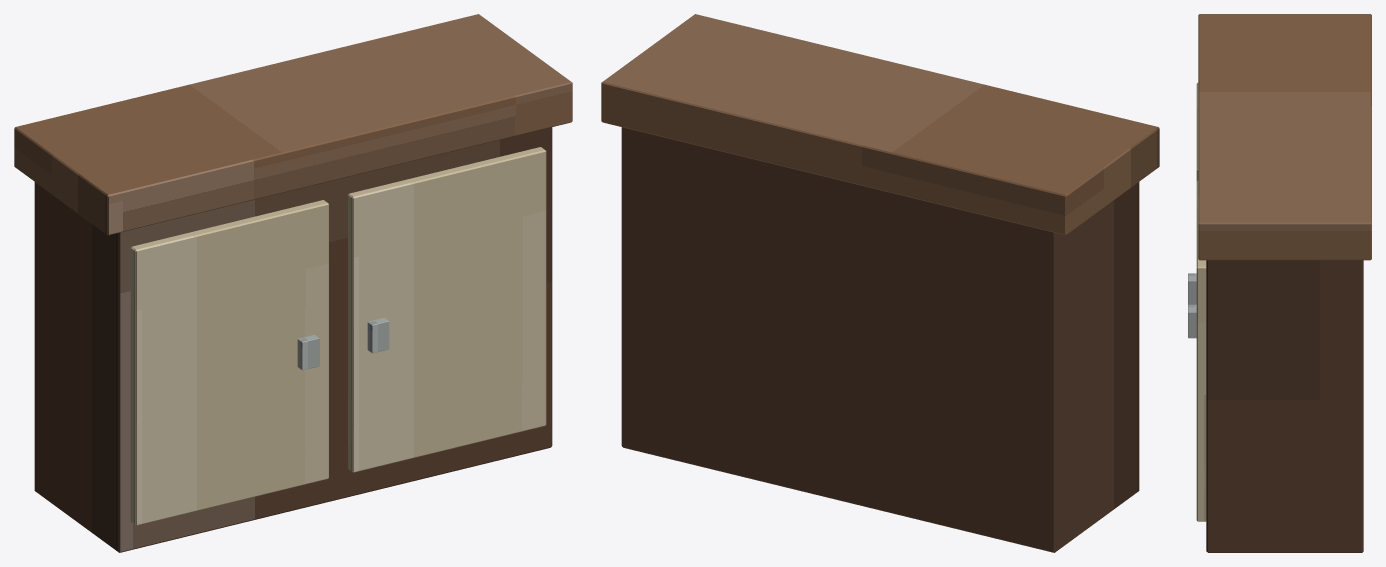
The model's file is normal_kitchen_wall_cabinet.glb.
3 views of the same model, side by side, from view 1: azimuth 30°, elevation 25°; view 2: azimuth 150°, elevation 25°; view 3: azimuth 270°, elevation 25° (orthographic). The views are drawn at different scales.
Visible parts, largest first — view 1: CabinetCrown, WallCabinetDoor_1, WallCabinetDoor_2, WallCabinetBody, WallCabinetKnob_1, WallCabinetKnob_2; view 2: WallCabinetBody, CabinetCrown; view 3: WallCabinetBody, CabinetCrown, WallCabinetDoor_2, WallCabinetKnob_2, WallCabinetDoor_1, WallCabinetKnob_1.
Part boxes in pixels (x1=…): CabinetCrown: x1=14, y1=14, x2=572, y2=235; WallCabinetDoor_1: x1=130, y1=200, x2=328, y2=525; WallCabinetDoor_2: x1=348, y1=147, x2=546, y2=472; WallCabinetBody: x1=34, y1=127, x2=552, y2=552; WallCabinetKnob_1: x1=297, y1=334, x2=319, y2=370; WallCabinetKnob_2: x1=367, y1=317, x2=389, y2=353; WallCabinetBody: x1=621, y1=127, x2=1139, y2=552; CabinetCrown: x1=601, y1=14, x2=1159, y2=235; WallCabinetBody: x1=1206, y1=260, x2=1363, y2=552; CabinetCrown: x1=1198, y1=14, x2=1371, y2=260; WallCabinetDoor_2: x1=1196, y1=180, x2=1206, y2=521; WallCabinetKnob_2: x1=1188, y1=304, x2=1196, y2=338; WallCabinetDoor_1: x1=1196, y1=82, x2=1198, y2=180; WallCabinetKnob_1: x1=1188, y1=273, x2=1196, y2=304.
Size of the model in its own units: 1.2 by 0.9 by 0.4445.
1 material, 1 textured.
